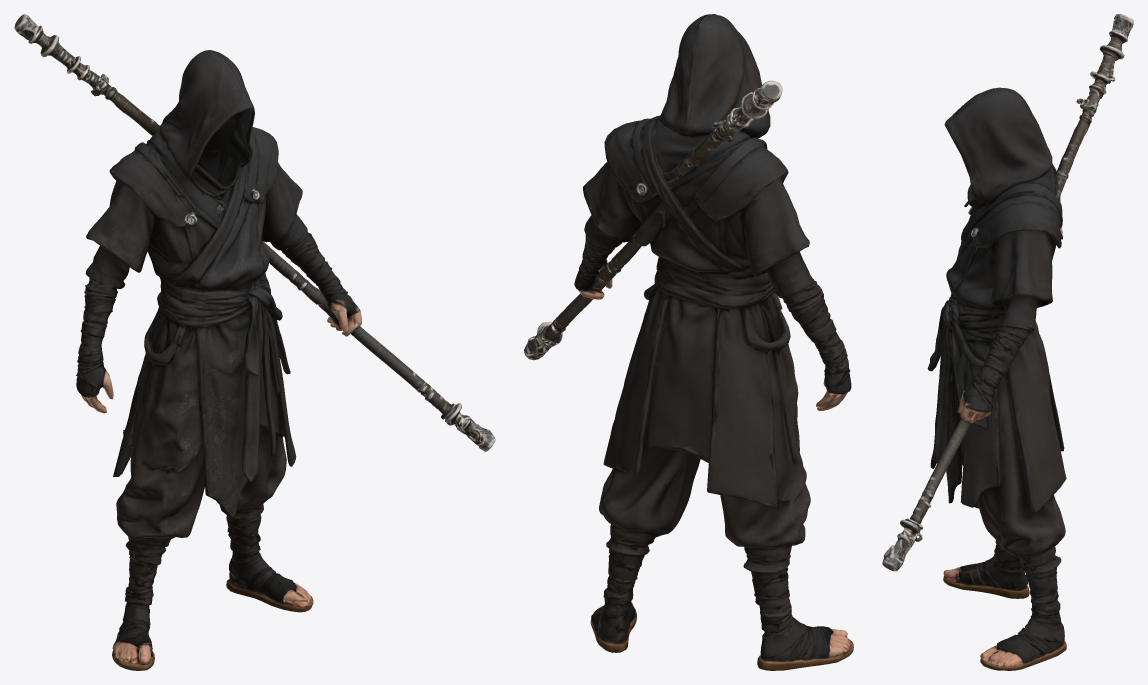
File: monk-optimized.glb
The picture shows the model from 3 angles, left to right: view 1: azimuth 30°, elevation 25°; view 2: azimuth 150°, elevation 25°; view 3: azimuth 270°, elevation 25°; orthographic projection. The views are drawn at different scales.
Visible parts, largest first — view 1: tripo_node_20131e5b_tripo_mat_20131e5b_0; view 2: tripo_node_20131e5b_tripo_mat_20131e5b_0; view 3: tripo_node_20131e5b_tripo_mat_20131e5b_0.
Part boxes in pixels (box(x1,y1,x2,y2)): tripo_node_20131e5b_tripo_mat_20131e5b_0: box(14, 14, 495, 670); tripo_node_20131e5b_tripo_mat_20131e5b_0: box(524, 14, 853, 670); tripo_node_20131e5b_tripo_mat_20131e5b_0: box(882, 14, 1133, 670).
Bounding box in the file's own units: 0.618 × 0.9803 × 0.4016.
Materials: 1 (1 with a texture image).
